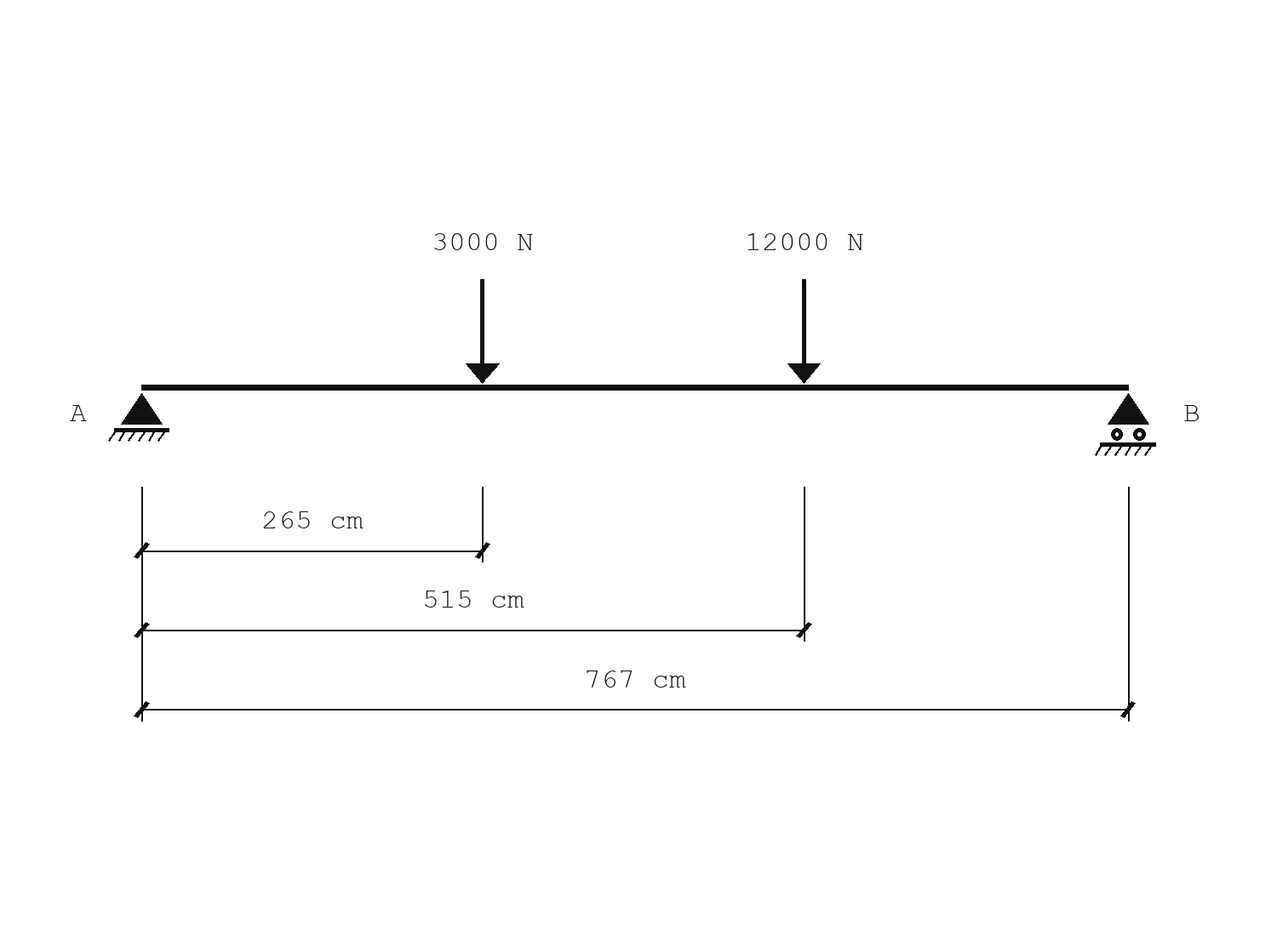pin_support: (108, 393, 169, 442)
point_load: (466, 279, 500, 384), (787, 279, 821, 384)
roller_support: (1095, 393, 1156, 456)
